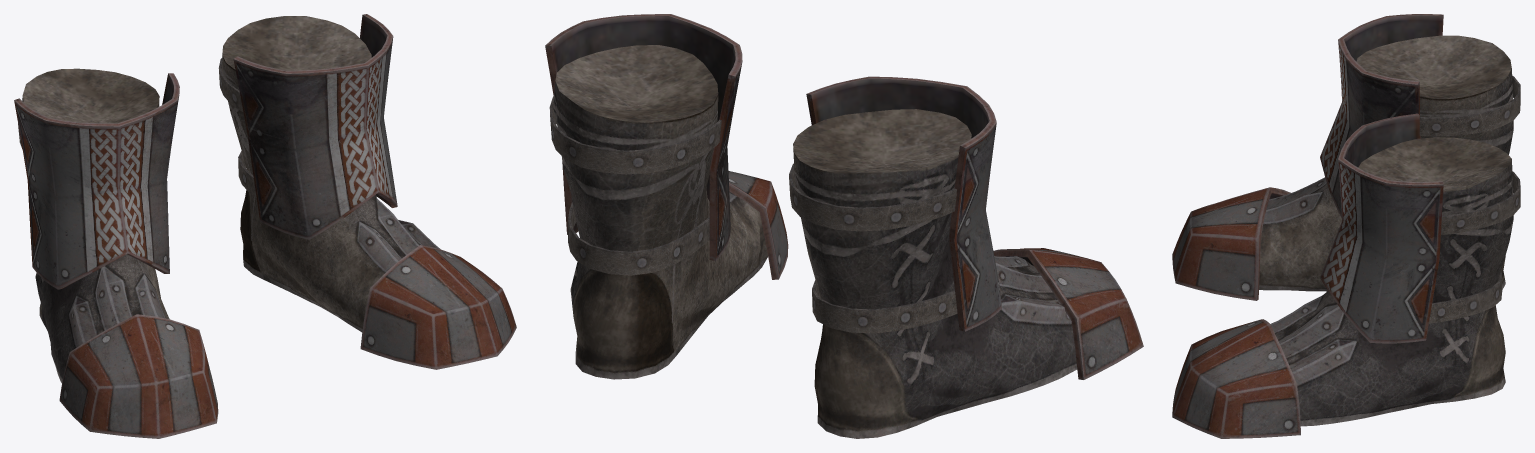
The model's file is sk_dwarf_iron_boots_heavy_c1.fbx.
3 views of the same model, side by side, from view 1: azimuth 30°, elevation 25°; view 2: azimuth 150°, elevation 25°; view 3: azimuth 270°, elevation 25° (orthographic). The views are drawn at different scales.
Parts seen in each view (by area): view 1: sk_dwarf_iron_boots_heavy_c1.0, sk_dwarf_iron_boots_heavy_c1.1; view 2: sk_dwarf_iron_boots_heavy_c1.0, sk_dwarf_iron_boots_heavy_c1.1; view 3: sk_dwarf_iron_boots_heavy_c1.0, sk_dwarf_iron_boots_heavy_c1.1.
Boxes of the visible parts, left/top/right/bottom form: sk_dwarf_iron_boots_heavy_c1.0: left=14, top=14, right=516, bottom=438; sk_dwarf_iron_boots_heavy_c1.1: left=18, top=58, right=256, bottom=197; sk_dwarf_iron_boots_heavy_c1.0: left=545, top=14, right=1143, bottom=438; sk_dwarf_iron_boots_heavy_c1.1: left=549, top=95, right=957, bottom=333; sk_dwarf_iron_boots_heavy_c1.0: left=1172, top=14, right=1513, bottom=438; sk_dwarf_iron_boots_heavy_c1.1: left=1419, top=76, right=1520, bottom=323.
Bounding box in the file's own units: 0.5801 × 0.4158 × 0.3158.
Materials: 2 (2 with a texture image).
